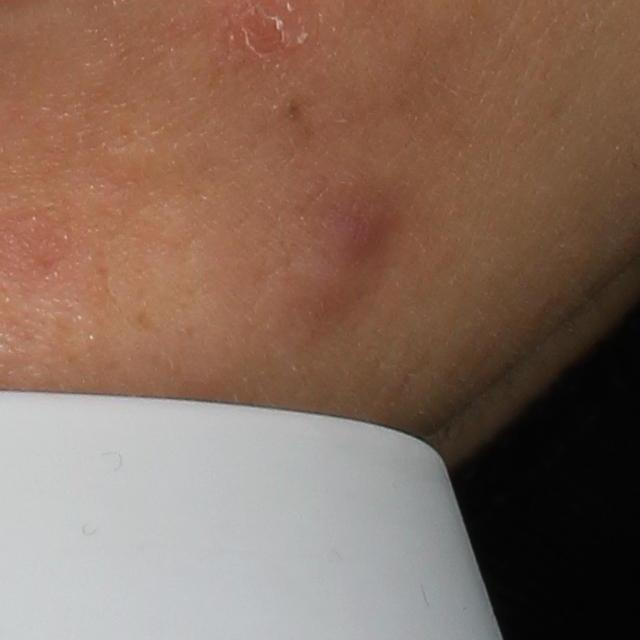papule: (305, 184, 387, 273)
